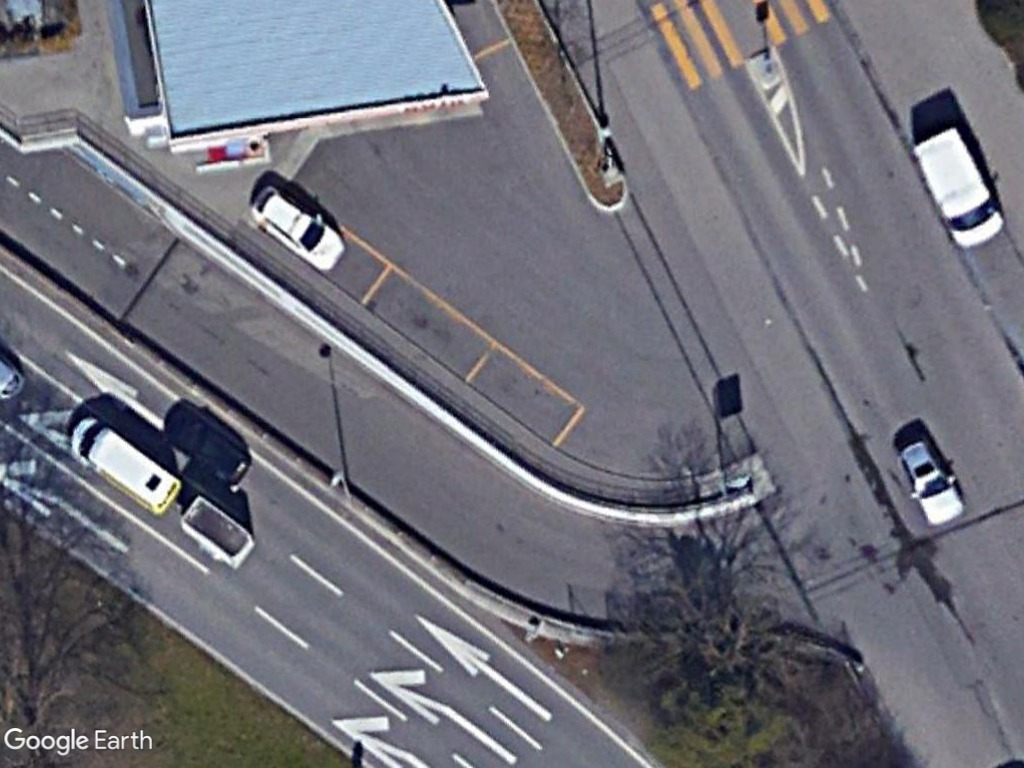car: (244, 183, 351, 278), (894, 430, 969, 530)
van: (901, 125, 1005, 250), (65, 414, 182, 521)
